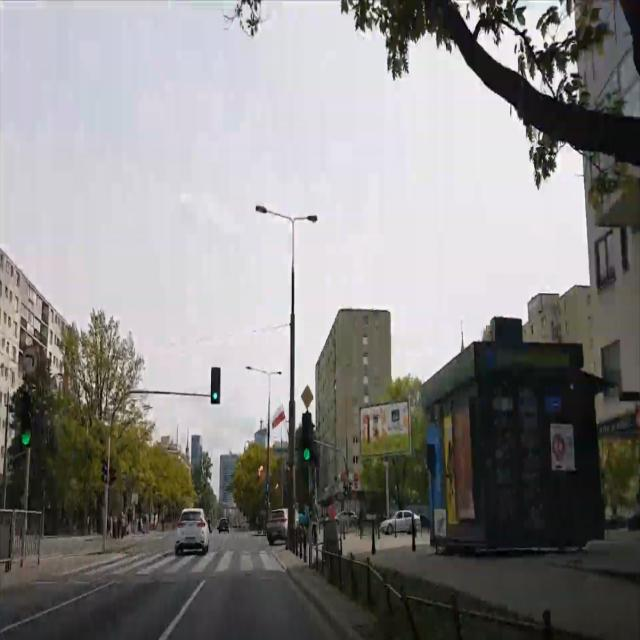Droga z pierwszenstwem: (301, 384, 314, 410)
